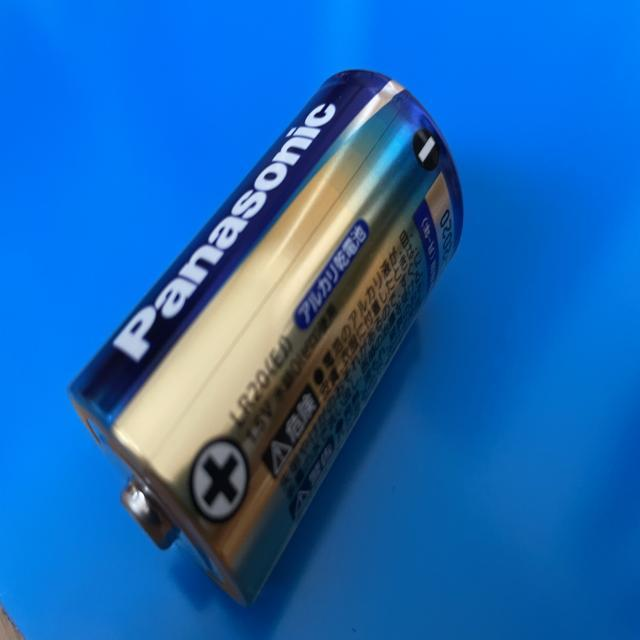Hazard: (64, 66, 468, 614)
